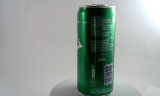sprite: (70, 3, 110, 95)
